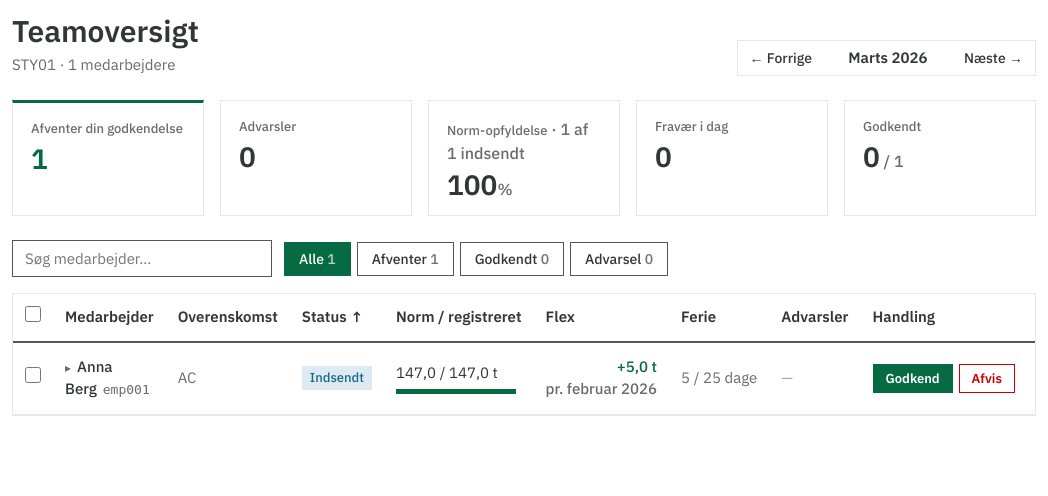
Scenario: TeamOversigt — bulk approve (sequential, status-aware) › a 409 lost-race row is surfaced (not silently dropped)
This screenshot has width=1048, height=496.
Expected: the text "Anna Berg" is shown, top-left (65, 356), bottom-right (113, 398)
Click the checkbox named "Vælg Anna Berg": (33, 375) top-left (25, 367), bottom-right (41, 383)
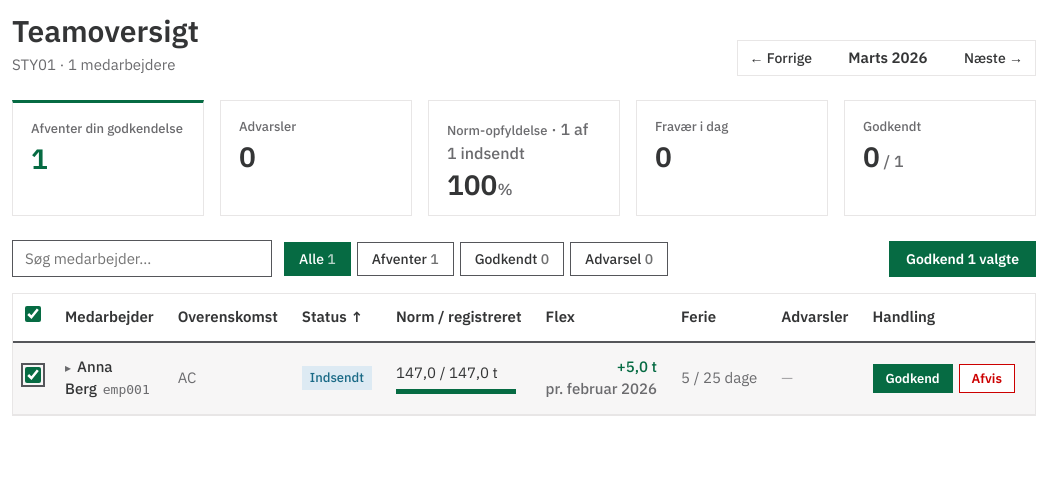
Click the button "Godkend 1 valgte": (962, 258) top-left (889, 240), bottom-right (1036, 276)
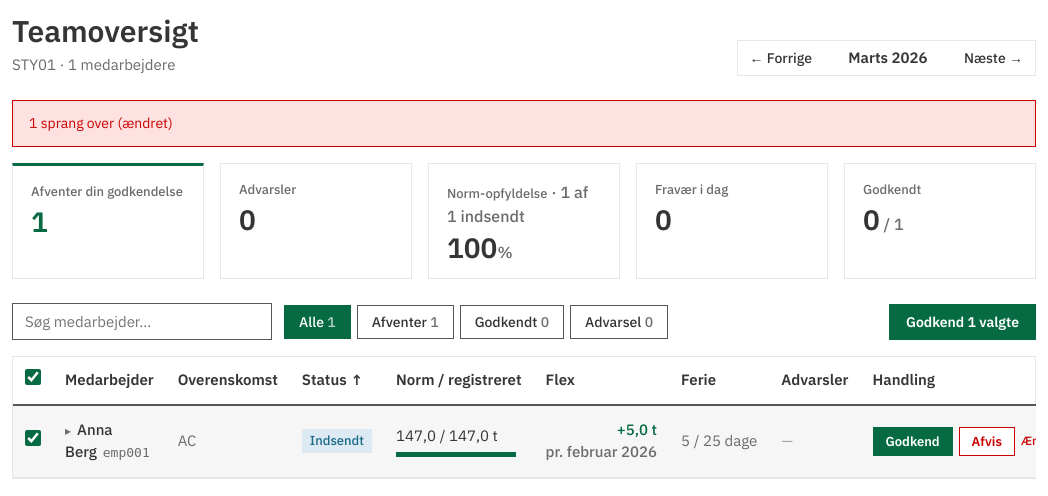
Result: the text "1 sprang over (ændret)" is shown at top-left (12, 100), bottom-right (1036, 147)
